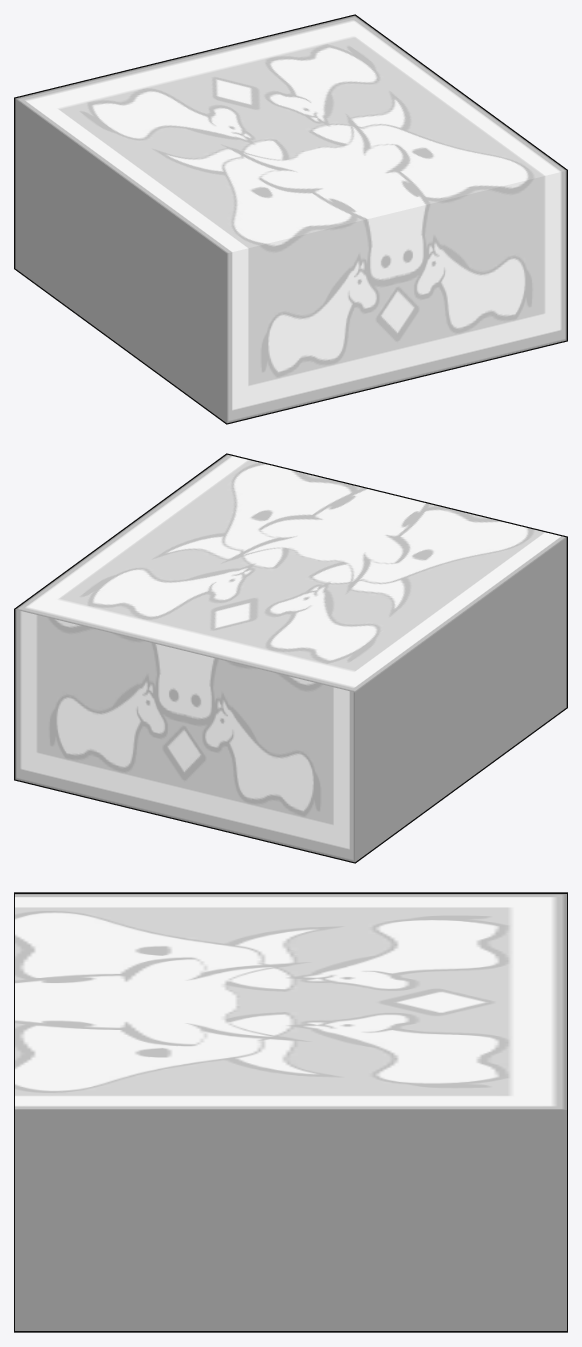
Rendered from Building_AnimalistSlab_Broad_Things_Building_FloorCoverings_SlabAnimalistBroad_SlabAnimalistBroadA.glb.
3 views of the same model, one above another, from view 1: azimuth 30°, elevation 25°; view 2: azimuth 150°, elevation 25°; view 3: azimuth 270°, elevation 25° (orthographic). The views are drawn at different scales.
Parts seen in each view (by area): view 1: Body, Outline; view 2: Body, Outline; view 3: Body, Outline.
Part boxes in pixels (x1,y1,x2,y2): Body: (15, 15, 566, 423); Outline: (14, 14, 567, 424); Body: (15, 454, 566, 862); Outline: (14, 453, 567, 863); Body: (15, 894, 566, 1330); Outline: (14, 892, 567, 1332).
Bounding box in the file's own units: 1.99 × 0.9567 × 2.15.
Materials: 2 (1 with a texture image).
